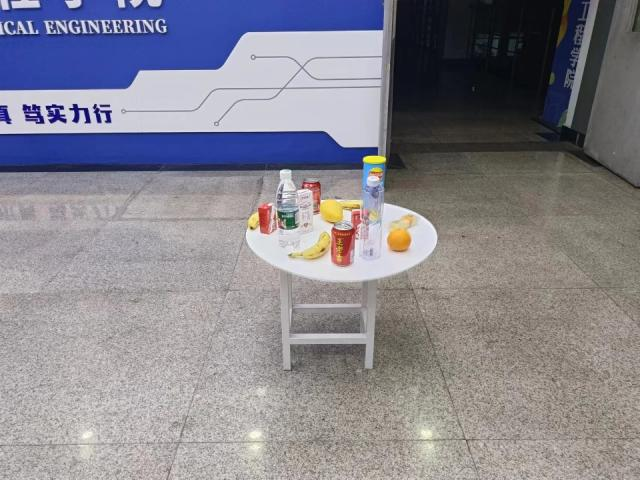Canned_drinks: (328, 219, 358, 267), (303, 179, 322, 217)
bottle: (275, 168, 302, 248), (360, 176, 383, 262)
drink_box: (296, 188, 314, 235), (259, 202, 277, 235)
